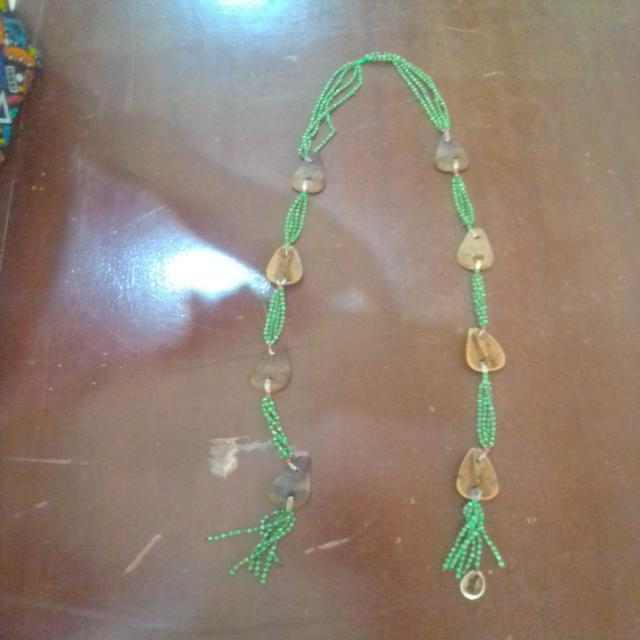facedown: (259, 452, 329, 518), (248, 343, 296, 397), (454, 225, 498, 273), (290, 148, 332, 198), (431, 129, 471, 175)
faceup: (448, 444, 502, 502), (460, 324, 510, 376), (263, 243, 304, 289)
